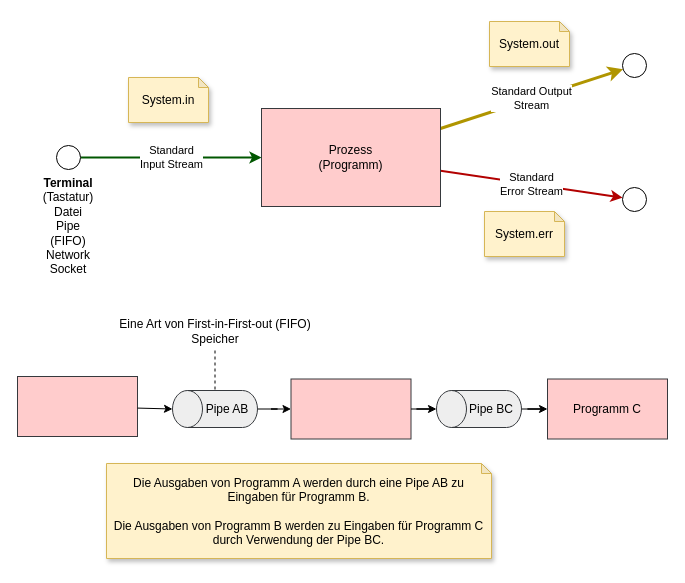
The diagram is 685 pixels wide and 583 high, and some of its shapes have lost their labels. Here are the shapes that lost their labels. From the top down, the centre of each, then its label:
At [634,65]: "Terminal Datei Pipe Network Socket".
At [634,199]: "Terminal Datei Network Socket".
At [77,406]: "Programm A".
At [350,408]: "Programm B".
